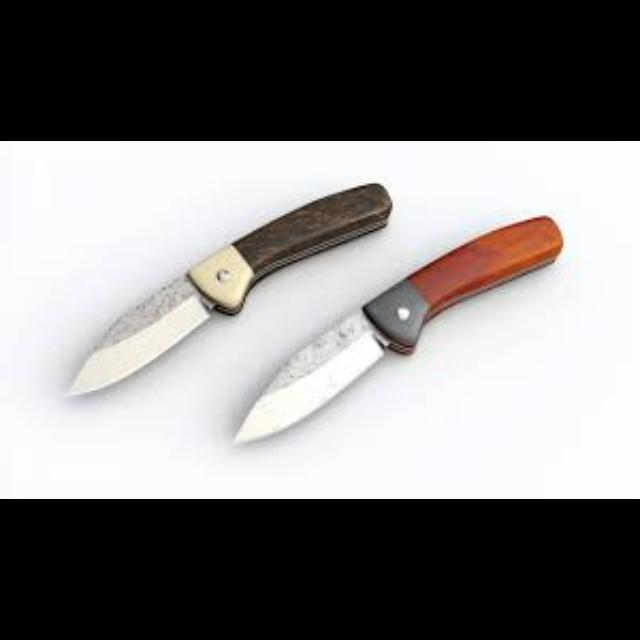Knife: (231, 214, 563, 446), (66, 180, 392, 396)
